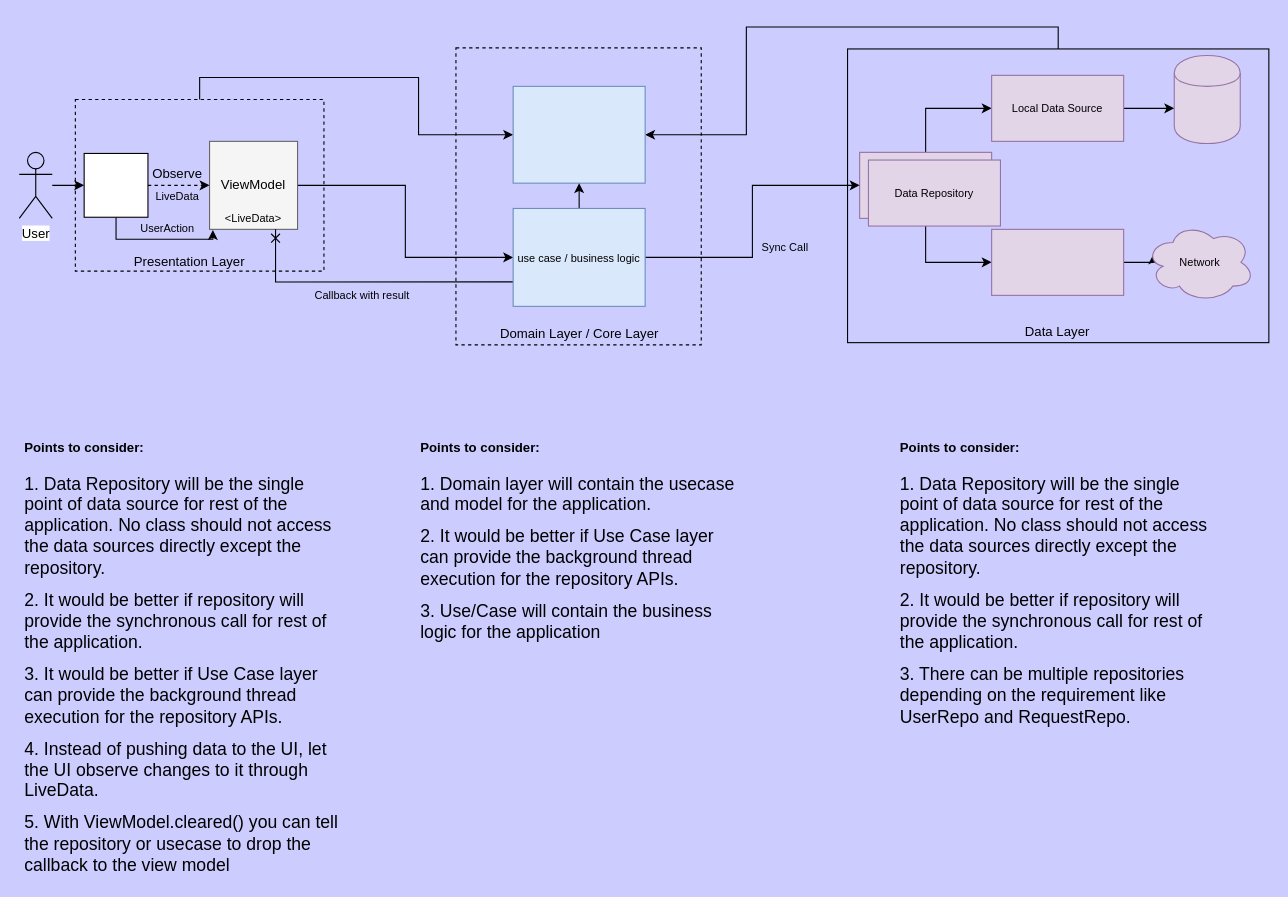
Image size: 1288x897. Some labels were removed from this diagram. Each missing label, with the centre of its shape:
model: the point at 578,134
Remote Data Source: the point at 1057,261
Room: the point at 1206,99
View: the point at 115,184
